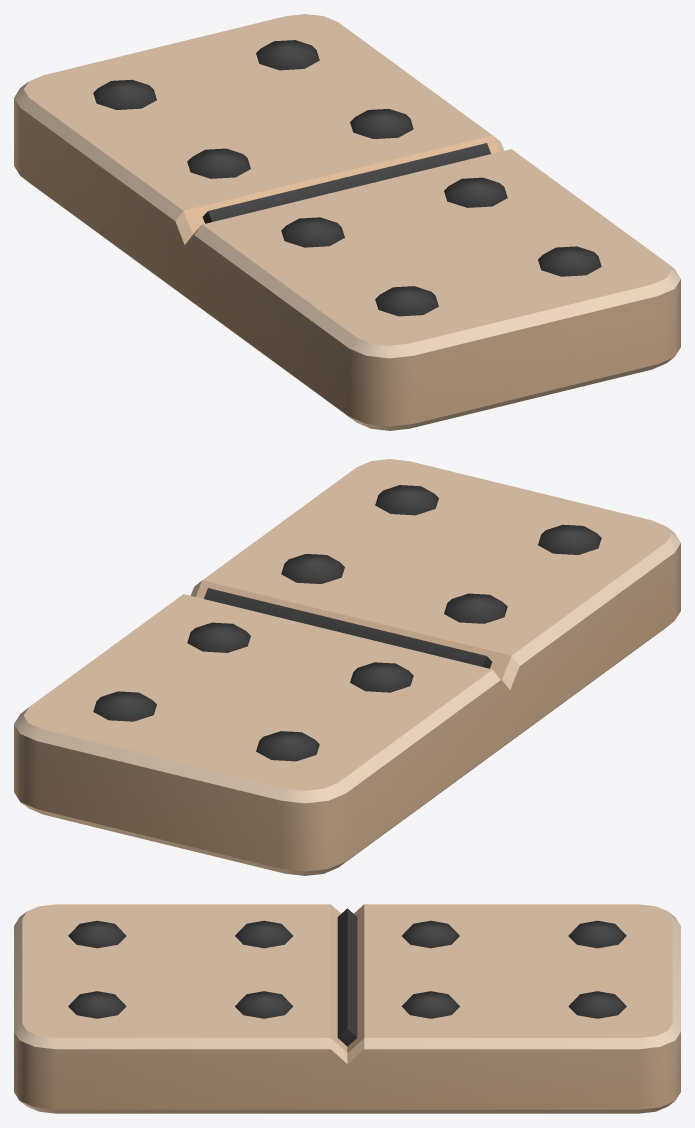
Rendered from domino_tile_4-4.obj.
3 views of the same model, one above another, from view 1: azimuth 30°, elevation 25°; view 2: azimuth 150°, elevation 25°; view 3: azimuth 270°, elevation 25° (orthographic). The views are drawn at different scales.
Parts seen in each view (by area): view 1: domino_tile_4-4; view 2: domino_tile_4-4; view 3: domino_tile_4-4.
Part boxes in pixels (<box>): domino_tile_4-4: <box>14,14,680,430</box>; domino_tile_4-4: <box>14,459,680,875</box>; domino_tile_4-4: <box>14,904,680,1113</box>.
Size of the model in its own units: 1 by 0.2767 by 2.
1 material, 1 textured.
